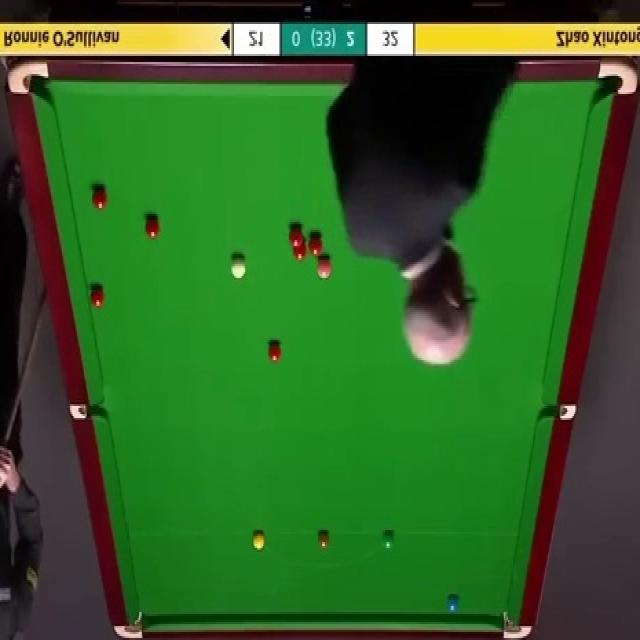blue-ball: (445, 593, 461, 618)
brown-ball: (317, 529, 331, 549)
green-ball: (382, 528, 396, 550)
pink-ball: (314, 255, 332, 279)
red-ball: (92, 184, 108, 212), (144, 212, 160, 239), (267, 340, 283, 364), (307, 235, 324, 257), (288, 224, 304, 247), (89, 285, 104, 309), (291, 240, 308, 261)
white-ball: (230, 252, 248, 281)
yellow-ball: (252, 530, 266, 550)
